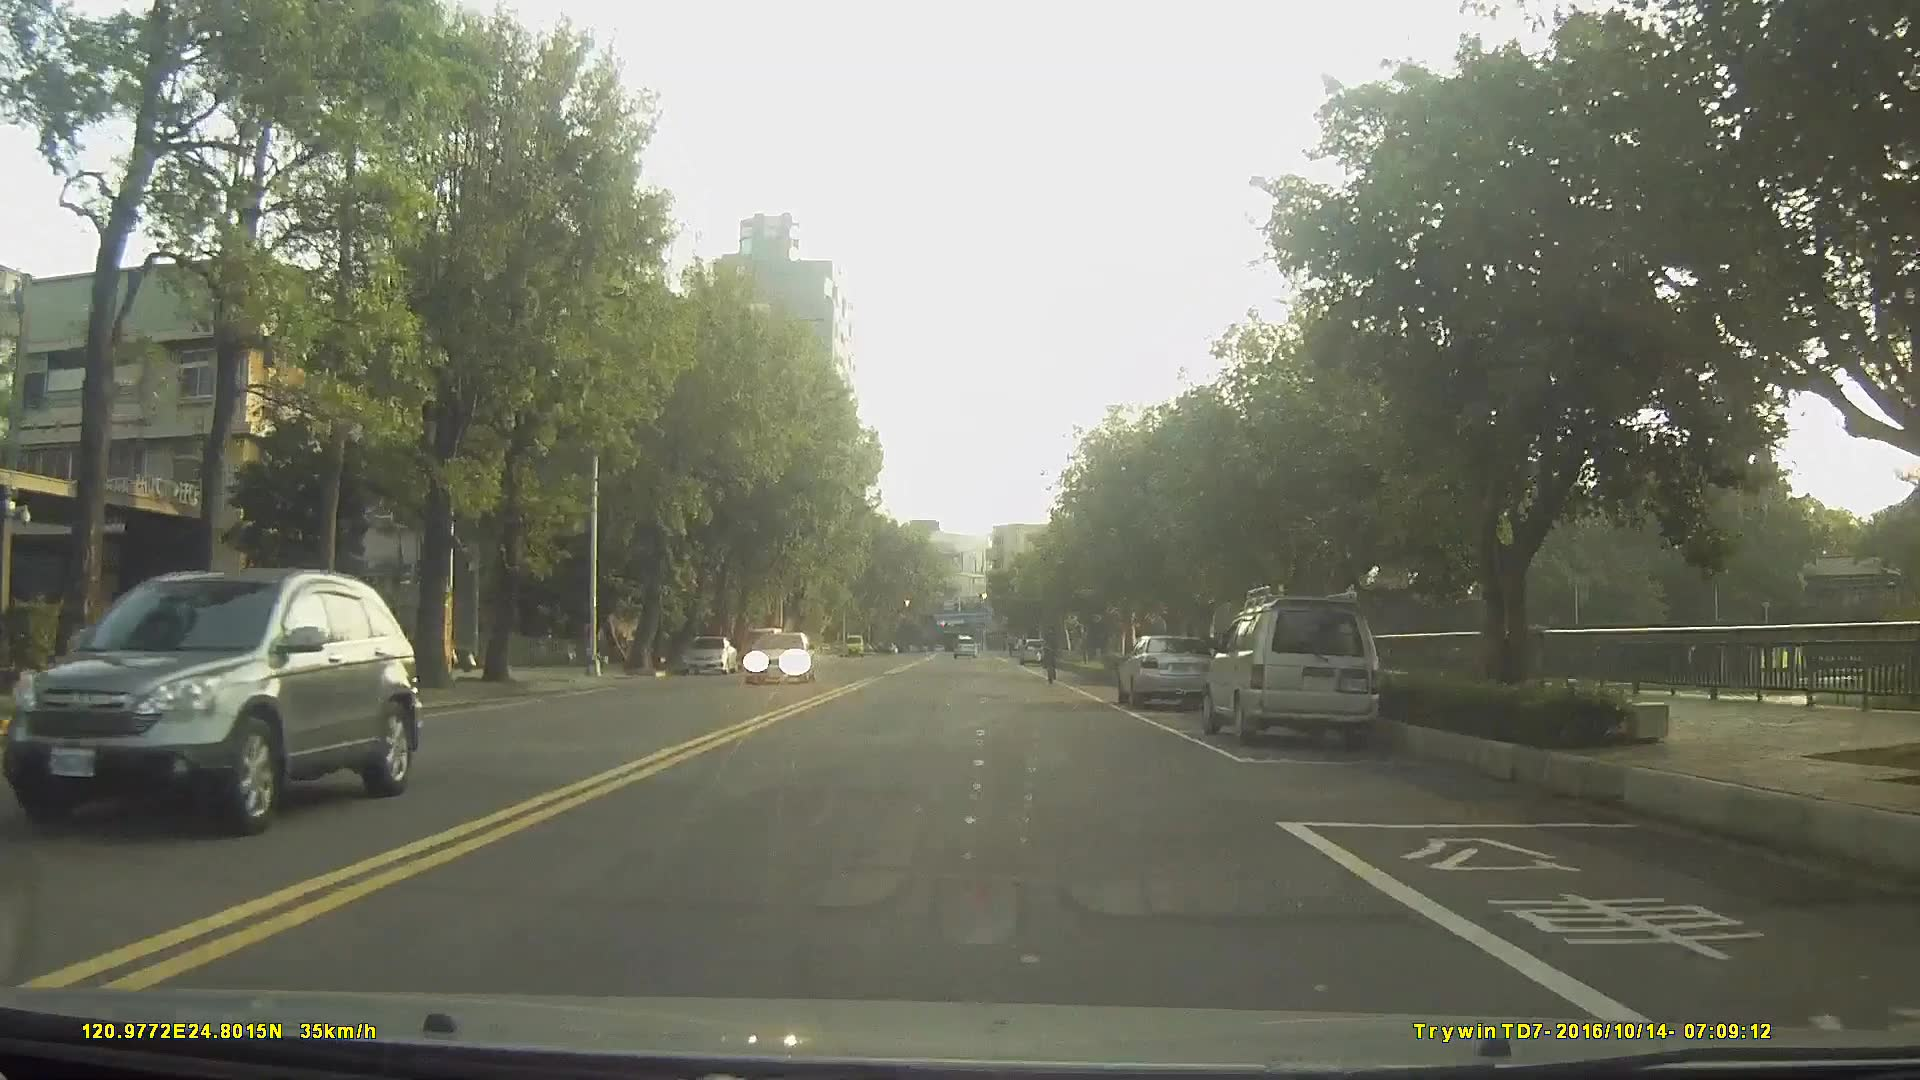rider: (1041, 626, 1062, 690)
vehicle: (0, 566, 421, 836), (1199, 598, 1380, 747), (1111, 632, 1217, 711), (742, 628, 815, 685), (679, 633, 736, 675), (740, 631, 783, 673), (1018, 637, 1048, 669), (948, 634, 976, 660)
